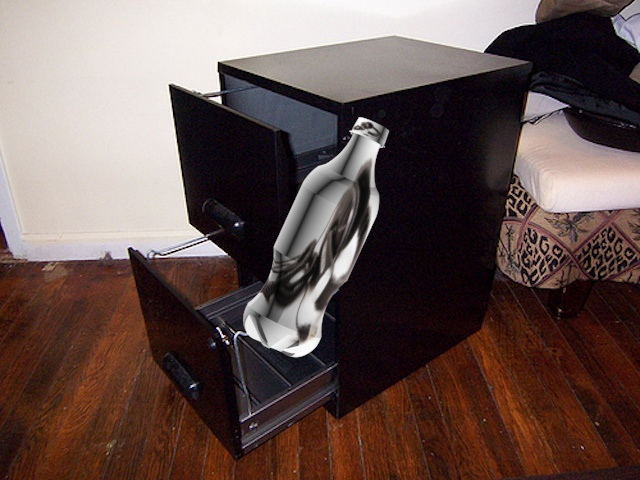bottle: (241, 113, 392, 360)
